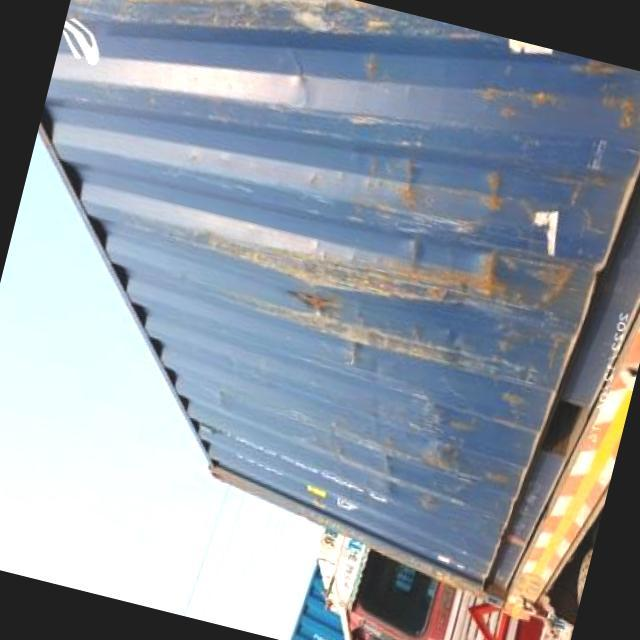rust: (454, 227, 541, 314), (278, 274, 354, 331)
